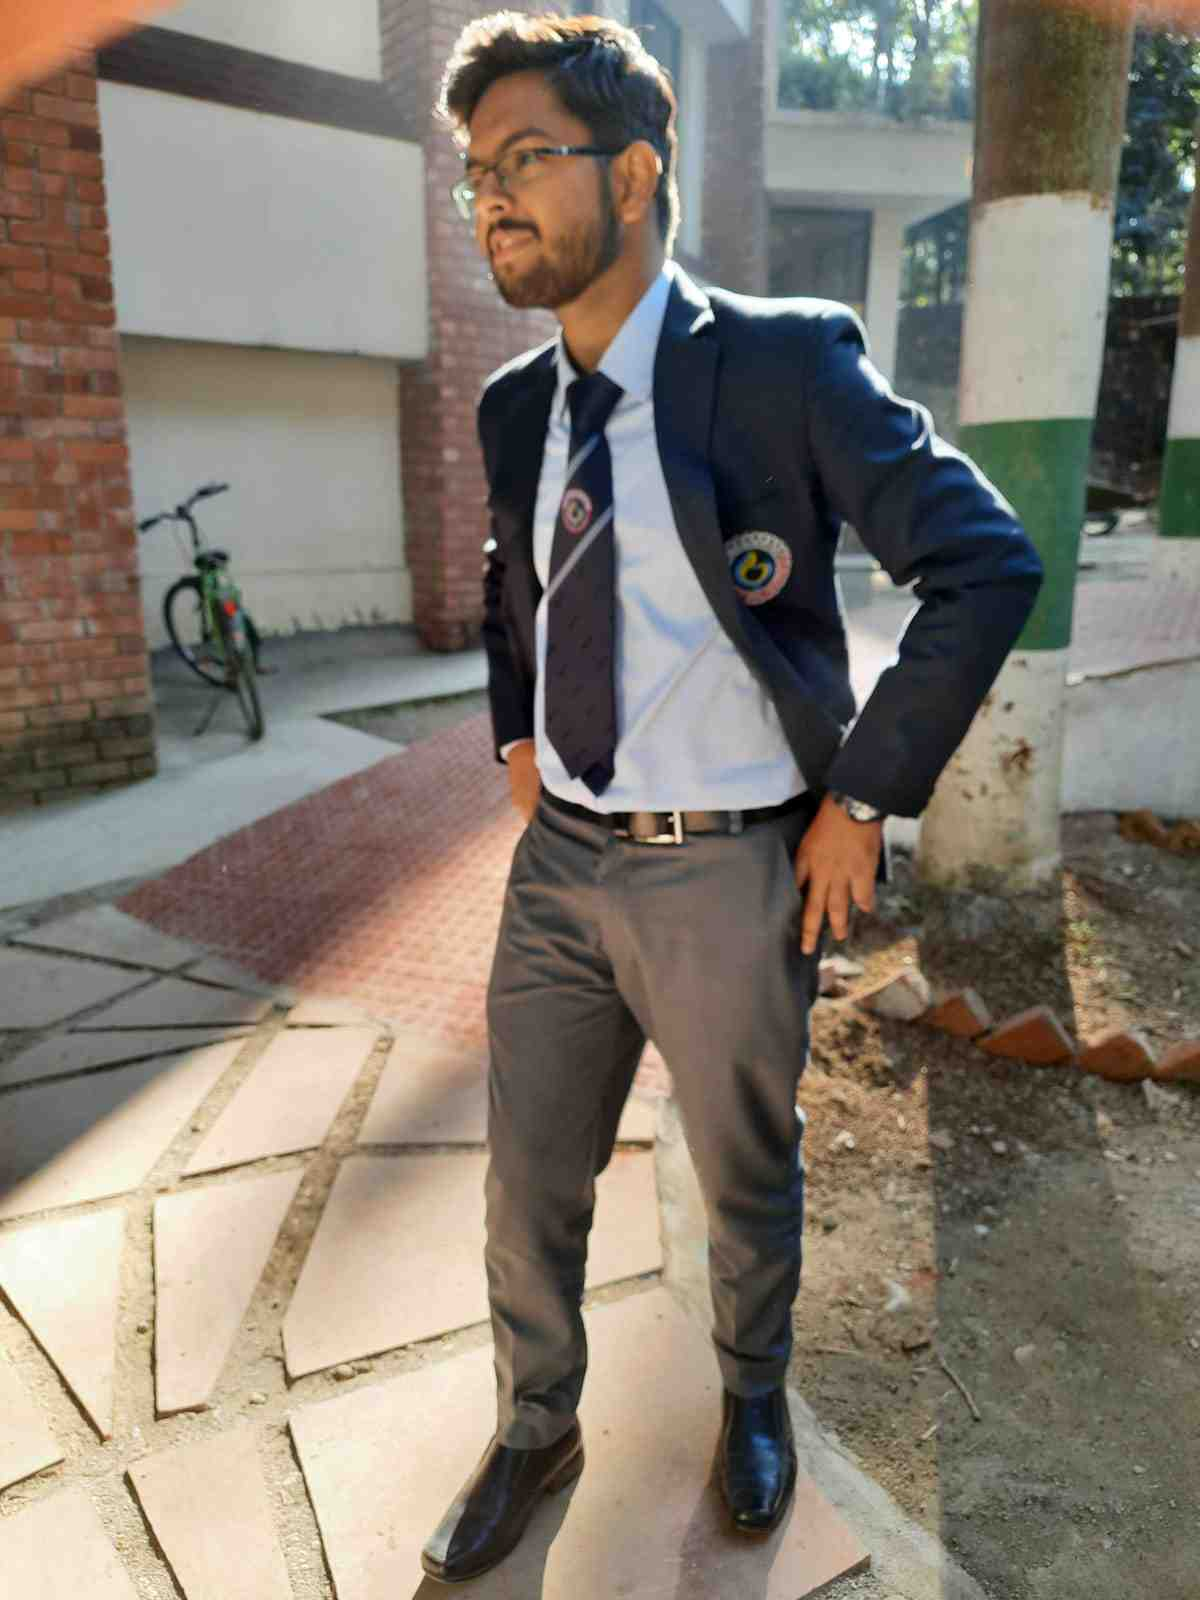blazer: (463, 295, 1011, 897)
pant: (454, 777, 821, 1432)
tie: (543, 377, 626, 811)
